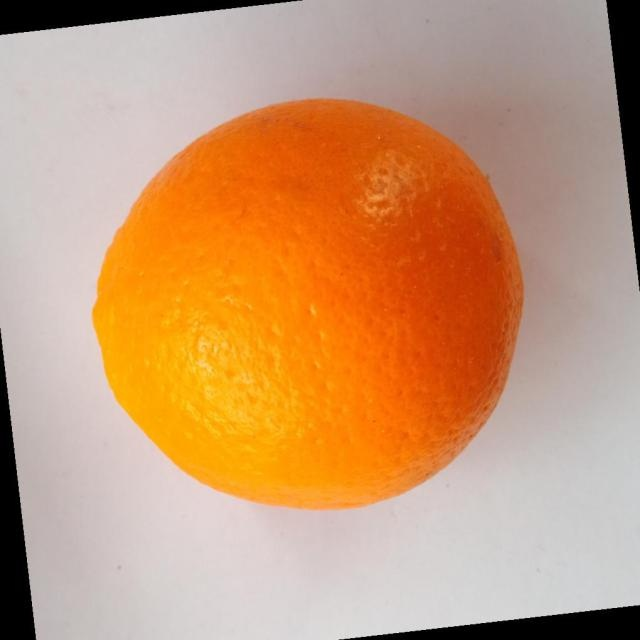agrume: (91, 96, 525, 511)
